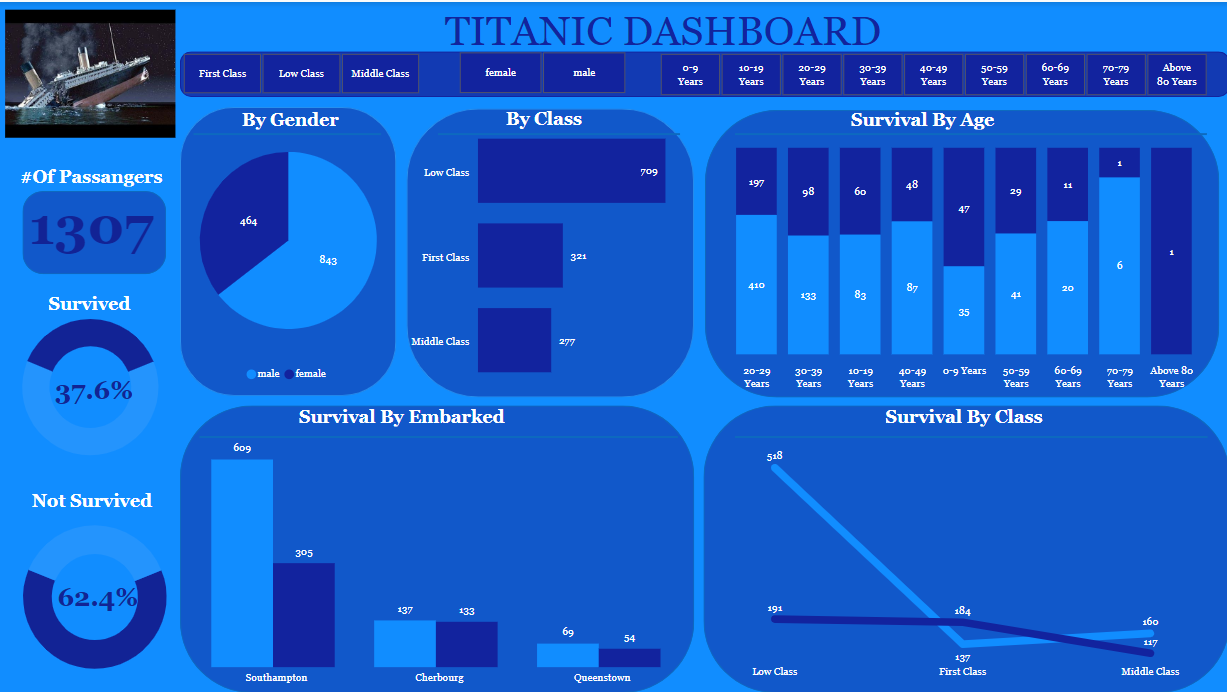

This screenshot's page, from the dashboard's own definition file:
{"tool":"powerbi","page":{"name":"Page 1","canvas":[1280,720],"ordinal":0},"visuals":[{"type":"shape","box":[732.4,420.5,548.1,299.3],"z":0},{"type":"donutChart","fields":{"Y":["CountNonNull(train.Index)"],"Category":["train.Survival"]},"box":[0,297.7,187.4,204.8],"z":1000},{"type":"card","fields":{"Values":["train.%Survive"]},"box":[31.5,365.4,132.3,77.2],"z":2000},{"type":"donutChart","fields":{"Y":["CountNonNull(train.Index)"],"Category":["train.Survival"]},"box":[0,518.5,196.8,201.5],"z":3000},{"type":"card","fields":{"Values":["train.% Not_Survive"]},"box":[37.8,581.2,127.6,75.6],"z":4000},{"type":"card","fields":{"Values":["CountNonNull(train.Index)"]},"box":[23.6,189,141.8,78.8],"z":5000},{"type":"shape","box":[187.4,108.7,225.2,300.8],"z":6000},{"type":"shape","box":[734,111.8,535.5,299.3],"z":7000},{"type":"shape","box":[187.4,420.5,535.5,299.3],"z":8000},{"type":"clusteredColumnChart","fields":{"Y":["CountNonNull(train.Index)"],"Category":["train.Embarked"],"Series":["train.Survival"]},"box":[146.5,441,620.6,278.8],"z":10000},{"type":"shape","box":[423.7,110.3,299.3,300.8],"z":11000},{"type":"hundredPercentStackedColumnChart","fields":{"Category":["train.New_Age"],"Y":["CountNonNull(train.Index)"],"Series":["train.Survival"]},"box":[732.4,136.9,535.5,274.1],"z":12000},{"type":"lineChart","fields":{"Category":["train.Custom"],"Y":["CountNonNull(train.Index)"],"Series":["train.Survival"]},"box":[723,431.6,557.6,281.9],"z":13000},{"type":"image","box":[0,0,173.3,171.7],"z":14000},{"type":"textbox","box":[423.7,0,534,64.6],"z":15000},{"type":"barChart","fields":{"Category":["train.Custom"],"Y":["CountNonNull(train.Index)"]},"box":[412.7,92.9,310.3,335.5],"z":16000},{"type":"textbox","box":[305.6,415.8,299.3,31.5],"z":17000},{"type":"textbox","box":[521.4,88.2,310.3,56.7],"z":18000},{"type":"pieChart","fields":{"Category":["train.Sex"],"Y":["CountNonNull(train.Index)"]},"box":[115,116.6,368.6,288.2],"z":19000},{"type":"textbox","box":[247.3,105.5,299.3,31.5],"z":20000},{"type":"textbox","box":[15.8,165.4,299.3,31.5],"z":21000},{"type":"textbox","box":[45.7,297.7,141.8,39.4],"z":22000},{"type":"textbox","box":[880.5,105.6,299.3,31.5],"z":23000},{"type":"textbox","box":[28.4,502.5,159.1,47.3],"z":24000},{"type":"shape","box":[23.6,196.9,149.6,86.6],"z":25000},{"type":"textbox","box":[916.7,415.8,299.3,31.5],"z":26000},{"type":"shape","box":[765.3,440.4,492,25],"z":27000},{"type":"shape","box":[207.7,440.4,498.2,25],"z":28000},{"type":"shape","box":[187.4,52,1093.1,47.3],"z":30000},{"type":"shape","box":[201.6,124.4,195.3,25.2],"z":31000},{"type":"slicer","fields":{"Values":["train.New_Age"]},"box":[662.3,46.6,617.7,56.7],"z":32000},{"type":"shape","box":[456.8,124.4,252,25.2],"z":33000},{"type":"slicer","fields":{"Values":["train.Pclass"]},"box":[165.4,47.3,294.5,55.1],"z":34000},{"type":"shape","box":[765.5,124.4,491.4,25.2],"z":35000},{"type":"slicer","fields":{"Values":["train.Sex"]},"box":[452.9,45.3,221.8,56.2],"z":36000}]}

Visuals, with their boxes in screenshot pixels (x1, y1, x2, y2), scaled from the page's 1280x720 canvas onto the 1227x692 screenshot:
shape: select_region(702, 404, 1226, 691)
donutChart - CountNonNull(train.Index) x train.Survival: select_region(0, 286, 180, 483)
card - train.%Survive: select_region(30, 351, 157, 425)
donutChart - CountNonNull(train.Index) x train.Survival: select_region(0, 498, 189, 691)
card - train.% Not_Survive: select_region(36, 559, 159, 631)
card - CountNonNull(train.Index): select_region(23, 182, 159, 257)
shape: select_region(180, 104, 396, 394)
shape: select_region(704, 107, 1217, 395)
shape: select_region(180, 404, 693, 691)
clusteredColumnChart - CountNonNull(train.Index) x train.Embarked: select_region(140, 424, 735, 691)
shape: select_region(406, 106, 693, 395)
hundredPercentStackedColumnChart - train.New_Age x CountNonNull(train.Index): select_region(702, 132, 1215, 395)
lineChart - train.Custom x CountNonNull(train.Index): select_region(693, 415, 1226, 686)
image: select_region(0, 0, 166, 165)
textbox: select_region(406, 0, 918, 62)
barChart - train.Custom x CountNonNull(train.Index): select_region(396, 89, 693, 412)
textbox: select_region(293, 400, 580, 430)
textbox: select_region(500, 85, 797, 139)
pieChart - train.Sex x CountNonNull(train.Index): select_region(110, 112, 464, 389)
textbox: select_region(237, 101, 524, 132)
textbox: select_region(15, 159, 302, 189)
textbox: select_region(44, 286, 180, 324)
textbox: select_region(844, 101, 1131, 132)
textbox: select_region(27, 483, 180, 528)
shape: select_region(23, 189, 166, 272)
textbox: select_region(879, 400, 1166, 430)
shape: select_region(734, 423, 1205, 447)
shape: select_region(199, 423, 677, 447)
shape: select_region(180, 50, 1226, 95)
shape: select_region(193, 120, 380, 144)
slicer - train.New_Age: select_region(635, 45, 1226, 99)
shape: select_region(438, 120, 679, 144)
slicer - train.Pclass: select_region(159, 45, 441, 98)
shape: select_region(734, 120, 1205, 144)
slicer - train.Sex: select_region(434, 44, 647, 98)
